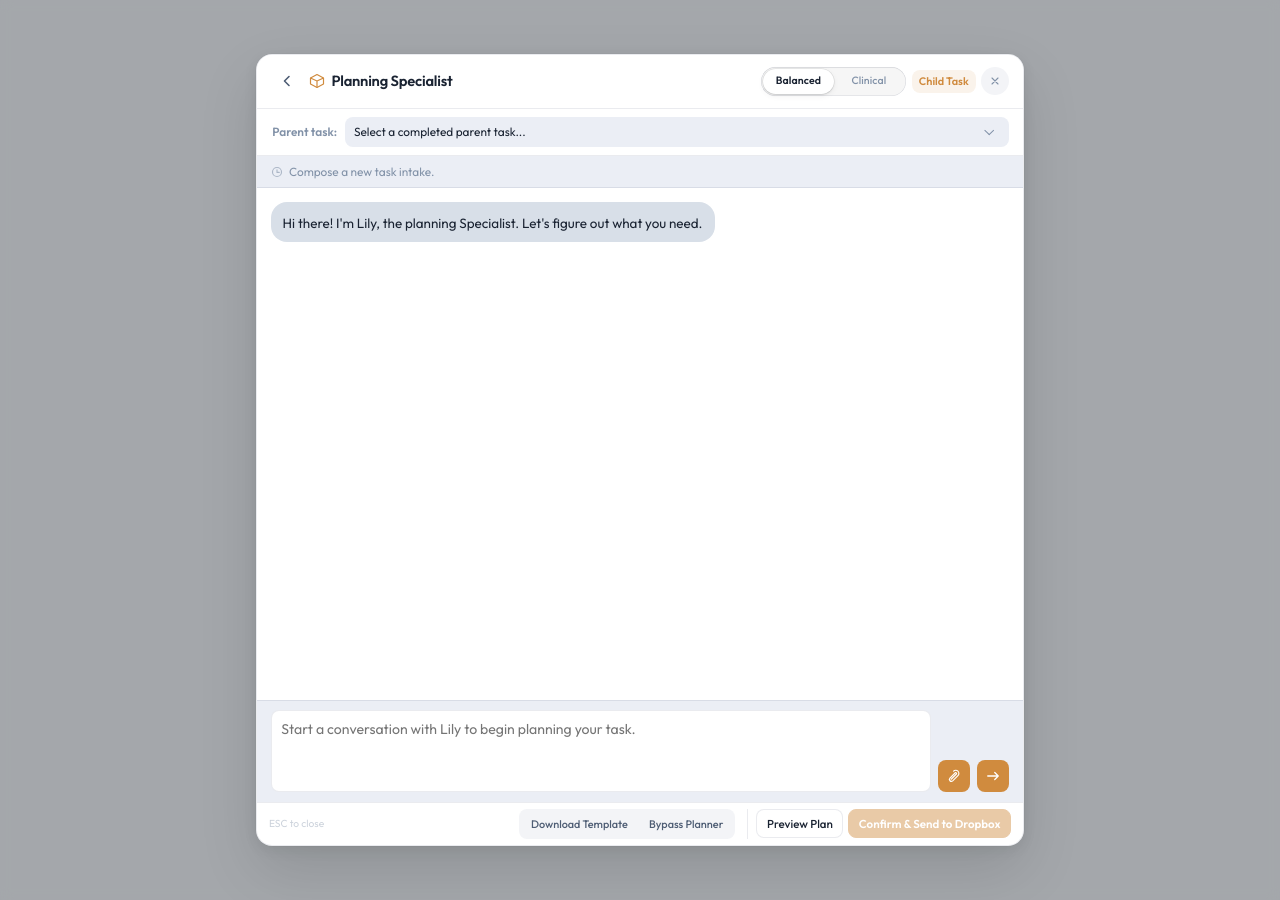
Scenario: PlannerModal › renders only the archived tasks it is given (filtering is owned by the hook)
This screenshot has width=1280, height=900.
Step 1. Click the button "Select a completed parent task..." → x=440, y=132, box top-left (345, 117), bottom-right (1009, 147)
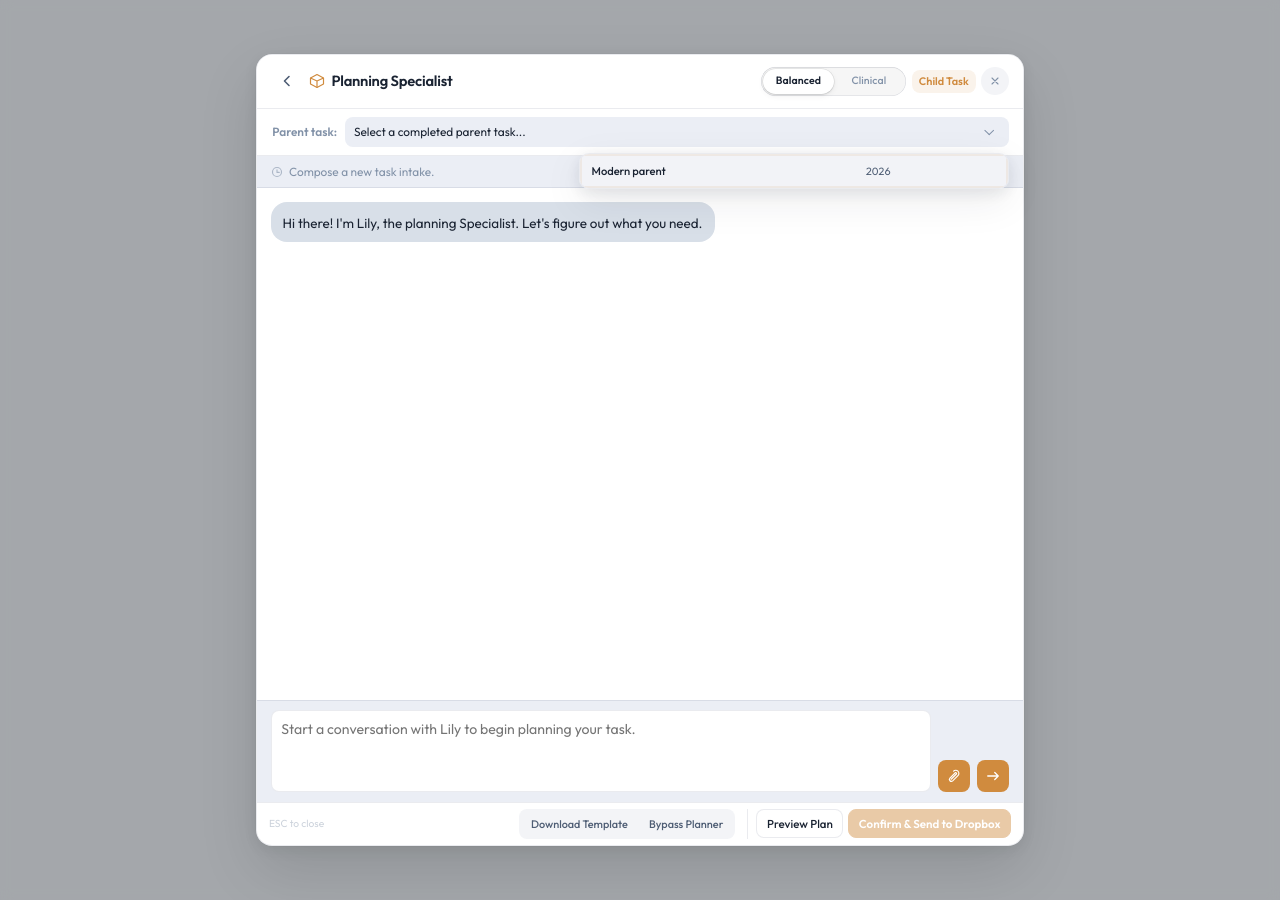
Expected: the text "Modern parent" is shown, top-left (592, 164), bottom-right (666, 178)
